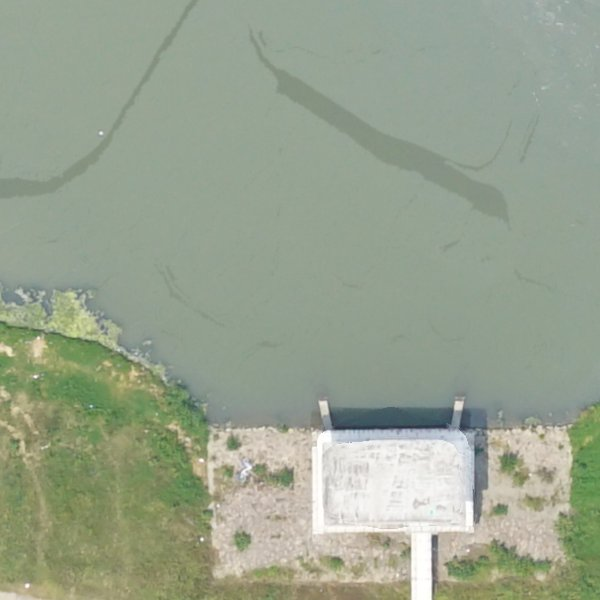Type1: (313, 378, 477, 459)
